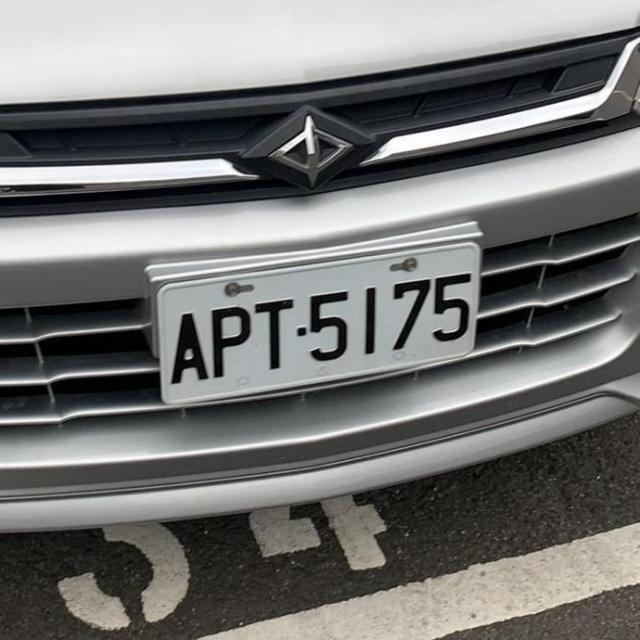W: (145, 237, 492, 409)
